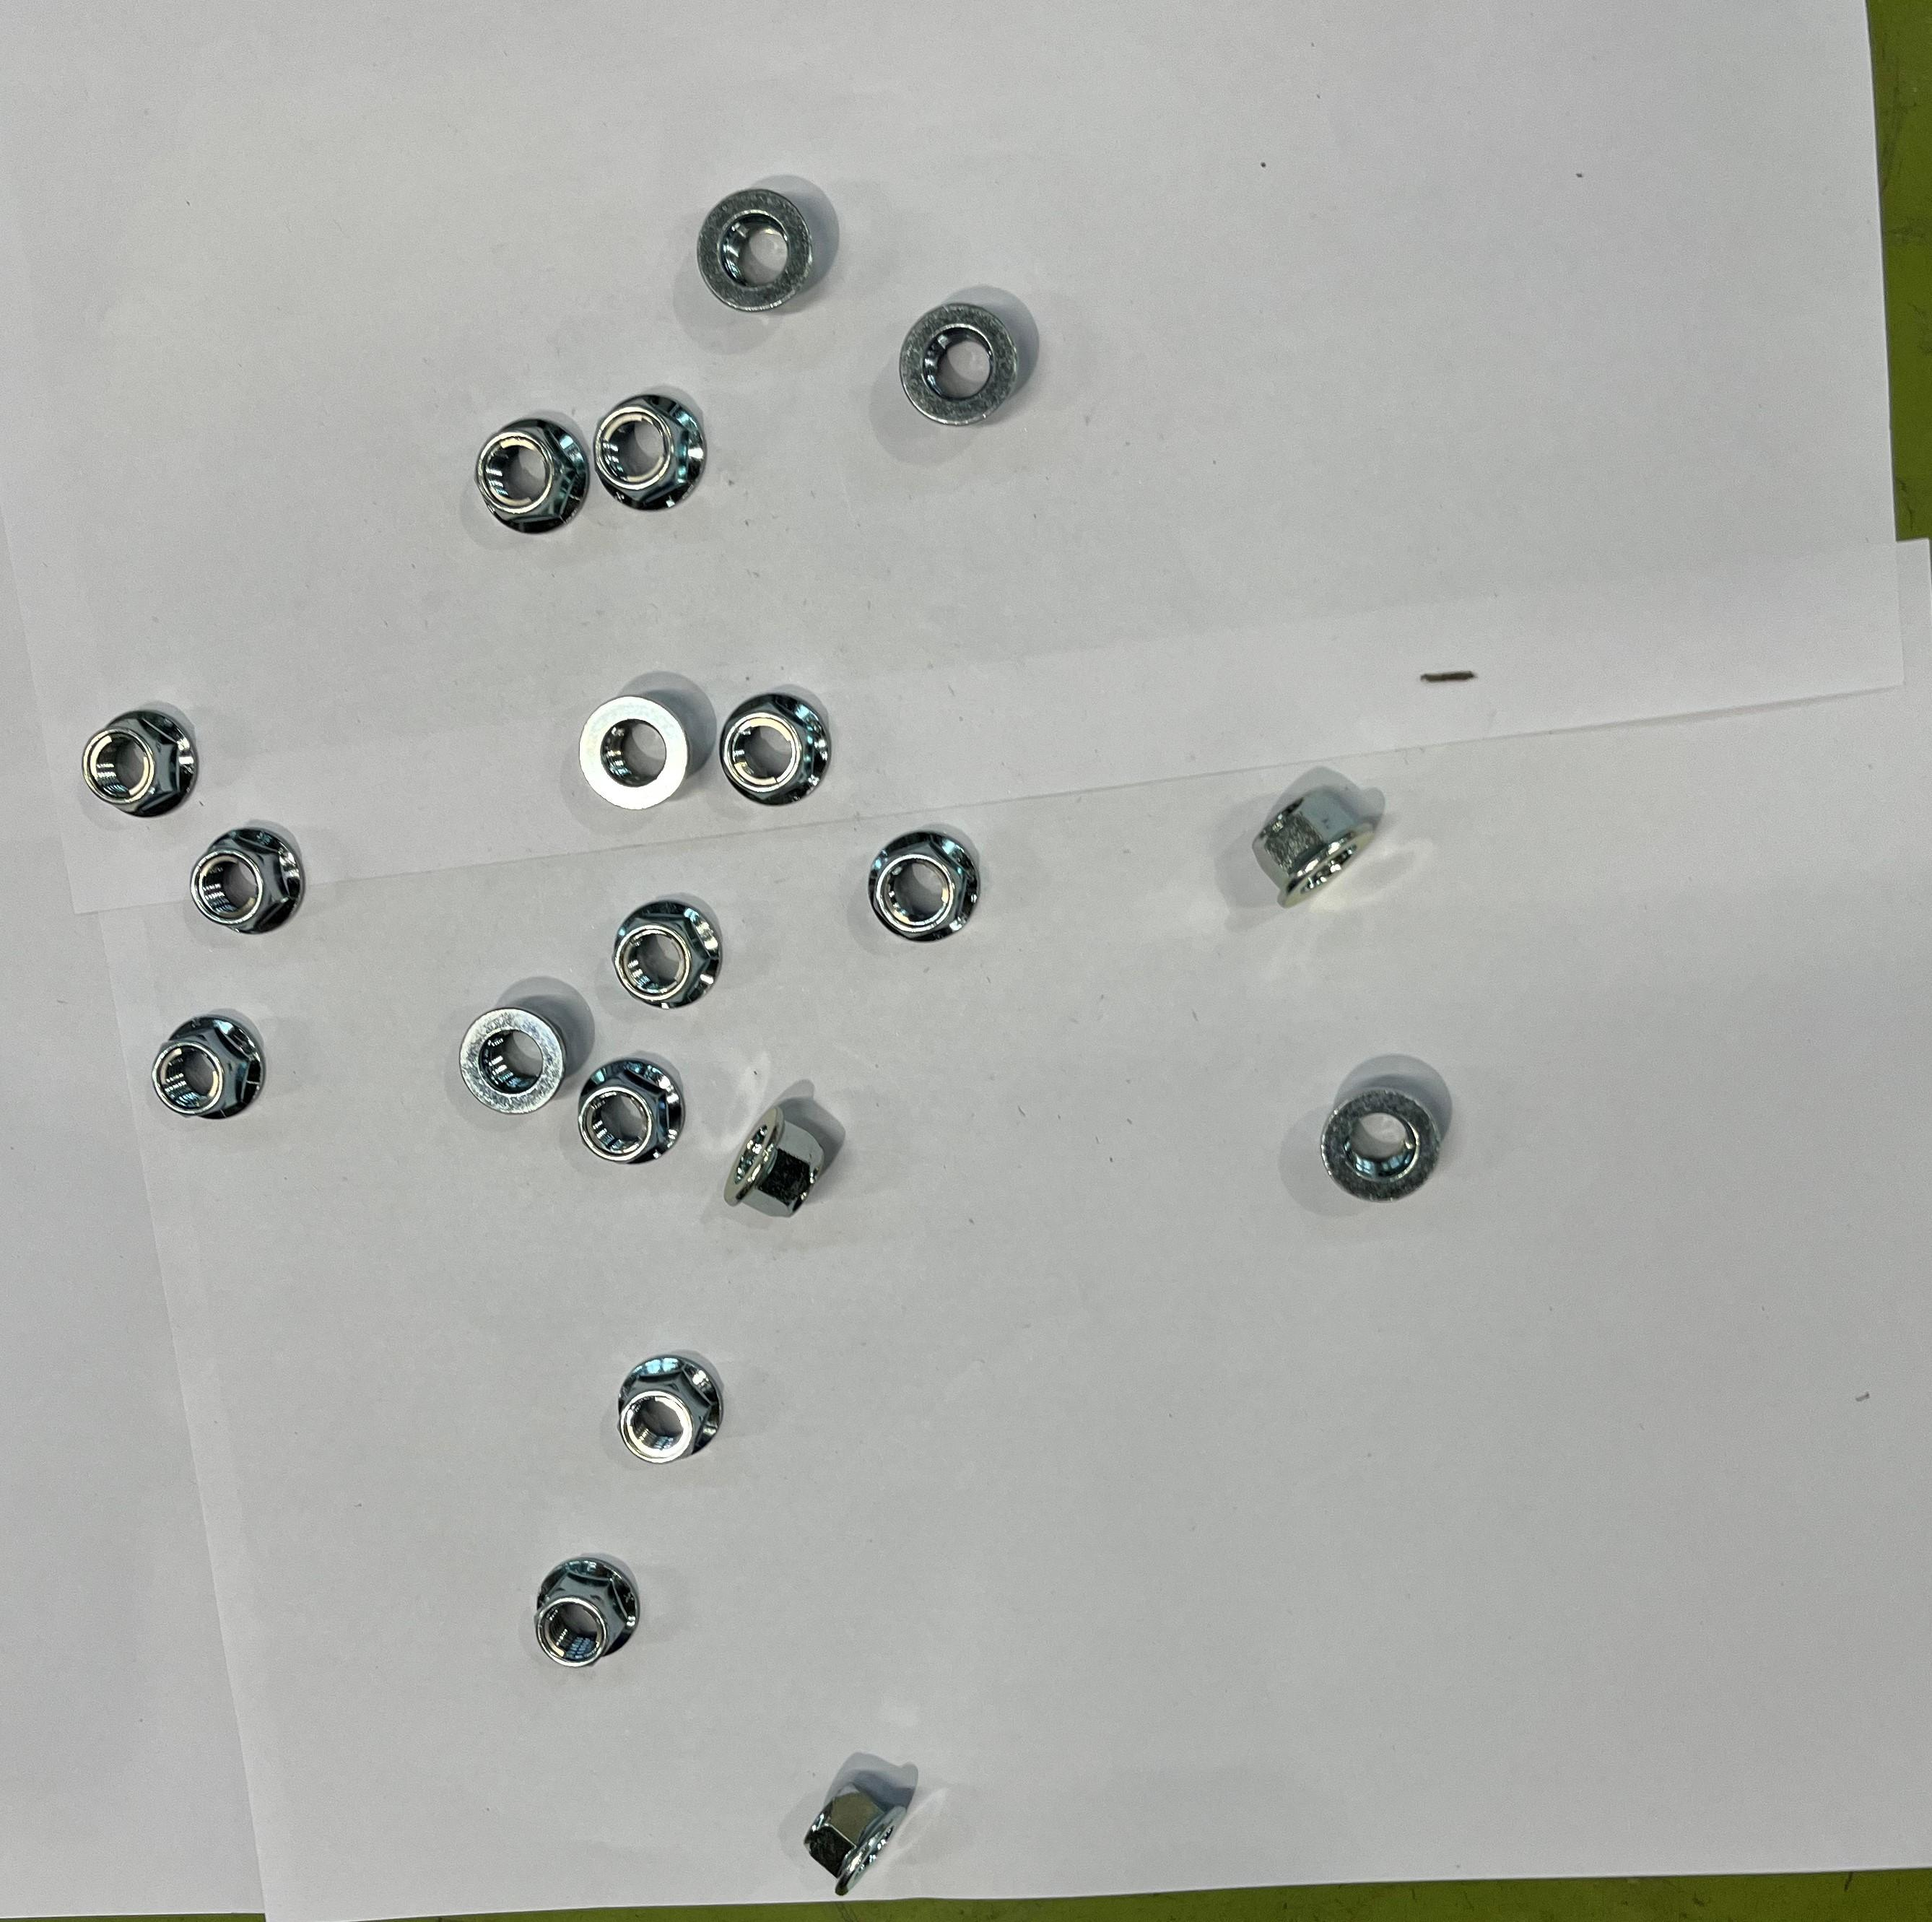Type B: (899, 292, 1015, 426), (1255, 783, 1376, 908), (699, 188, 815, 315), (475, 417, 589, 537), (616, 1345, 727, 1464), (593, 394, 709, 507), (1323, 1088, 1439, 1200), (869, 825, 978, 943), (151, 1014, 269, 1119), (802, 1781, 911, 1894), (84, 708, 197, 817), (579, 697, 686, 811), (192, 829, 306, 935), (579, 1053, 686, 1163), (720, 697, 831, 804), (535, 1556, 639, 1667), (612, 905, 720, 1010), (720, 1109, 825, 1216), (459, 1010, 567, 1112)
